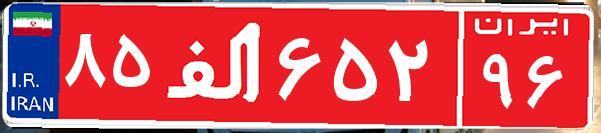2: (385, 28, 445, 110)
5: (330, 28, 385, 110), (110, 28, 158, 105)
6: (273, 28, 330, 110), (525, 38, 570, 115)
8: (57, 26, 110, 107)
9: (475, 38, 525, 113)
الف: (158, 15, 273, 115)
